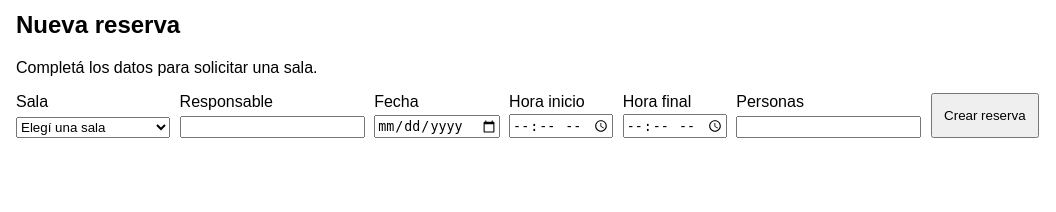
Test: comportamientos de frontend › bloquea el envío con campos obligatorios faltantes
The width and height of the screenshot is (1056, 212).
Click the button "Crear reserva" at point(985, 116), box [931,93,1039,138]
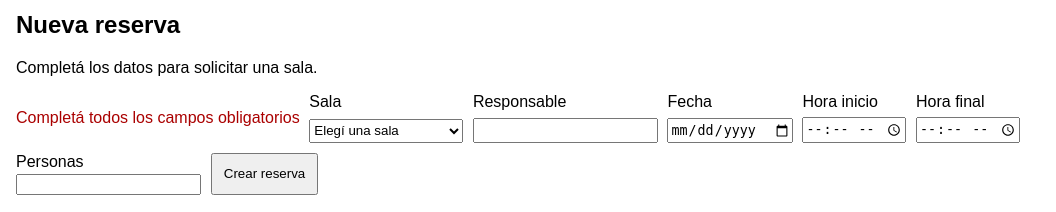
Result: the message shows "Completá todos" at [16,109,300,126]
